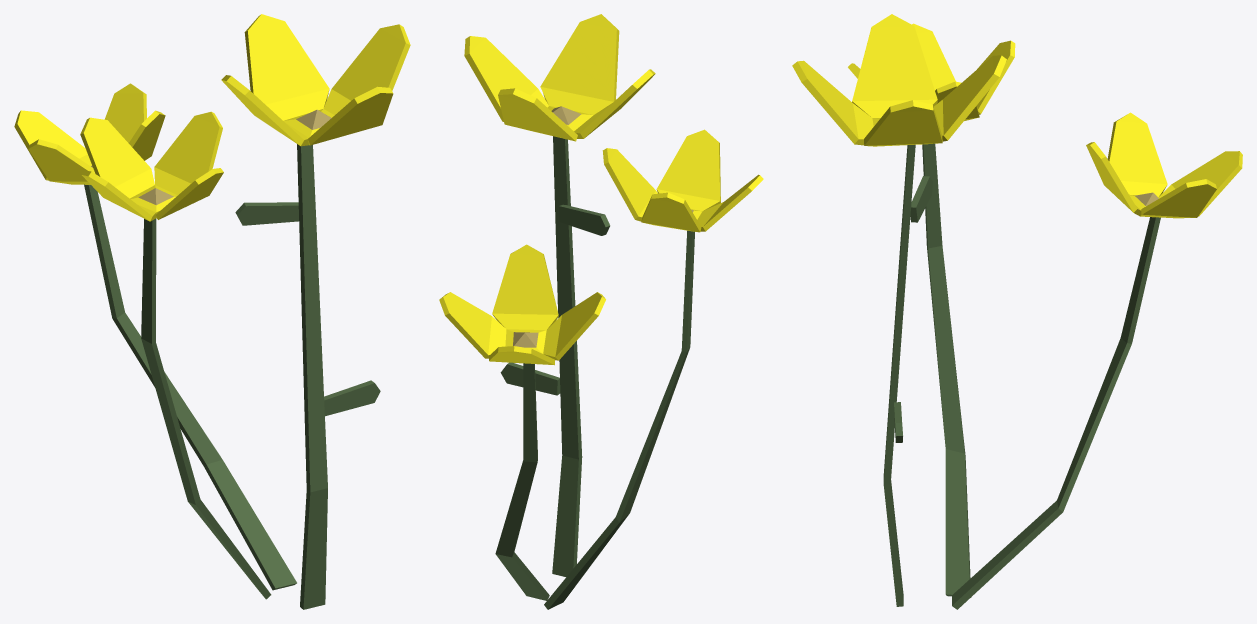
File: yellow-flower.fbx
3 renders of one model, left to right at view 1: azimuth 30°, elevation 25°; view 2: azimuth 150°, elevation 25°; view 3: azimuth 270°, elevation 25°, orthographic. The views are drawn at different scales.
Parts seen in each view (by area): view 1: Flowers; view 2: Flowers; view 3: Flowers.
Part boxes in pixels (x1=…): Flowers: x1=14, y1=14, x2=410, y2=609; Flowers: x1=439, y1=14, x2=763, y2=609; Flowers: x1=792, y1=14, x2=1242, y2=609.
Size of the model in its own units: 48.95 by 82.89 by 61.37.
